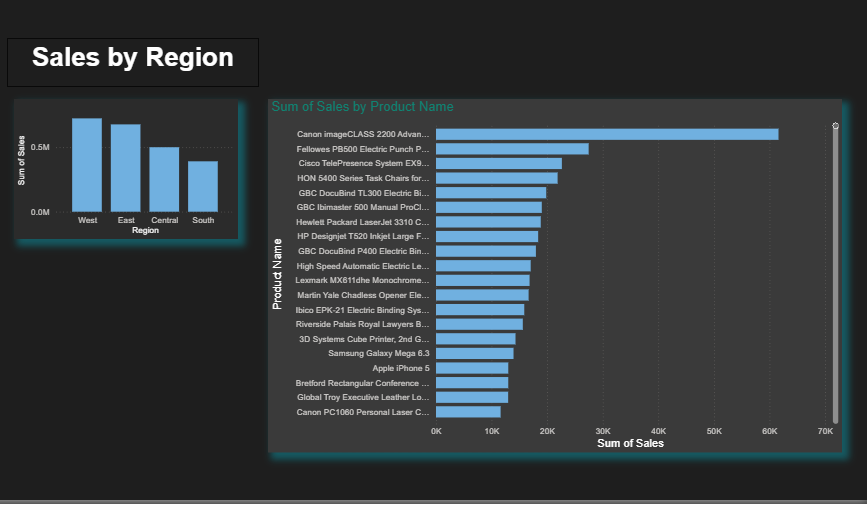

The dashboard page shown, as its layout file describes it:
{"tool":"powerbi","page":{"name":"Drill-through for regional analysis","canvas":[1280,720],"ordinal":3},"visuals":[{"type":"textbox","box":[50,60,360,70],"z":0},{"type":"clusteredBarChart","fields":{"Category":["Sheet3.Product Name"],"Y":["Sum(Sheet3.Sales)"]},"box":[423.3,146.7,820,505],"z":1000},{"type":"actionButton","box":[0,0,100,40],"z":2000},{"type":"clusteredColumnChart","fields":{"Category":["Sheet3.Region"],"Y":["Sum(Sheet3.Sales)"]},"box":[60,146.7,320,200],"z":3000}]}

Visuals, with their boxes on the page's 1280x720 design canvas (x1, y1, x2, y2). These are canvas units, not pixel positions in the 867x505 screenshot, which may show the page scaled, cropped or inside an application window:
textbox: 50/60/410/130
clusteredBarChart - Sheet3.Product Name x Sum(Sheet3.Sales): 423/147/1243/652
actionButton: 0/0/100/40
clusteredColumnChart - Sheet3.Region x Sum(Sheet3.Sales): 60/147/380/347
